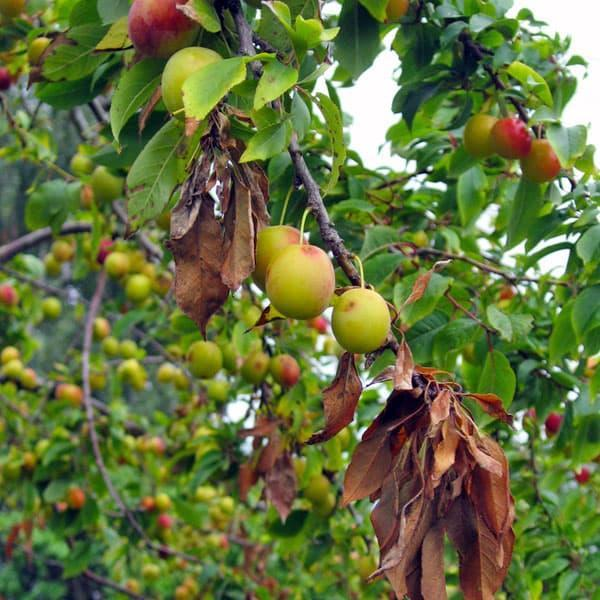apple: (261, 243, 333, 321), (160, 46, 220, 116), (330, 286, 390, 353), (131, 2, 199, 55), (489, 116, 531, 159), (522, 139, 563, 183)
